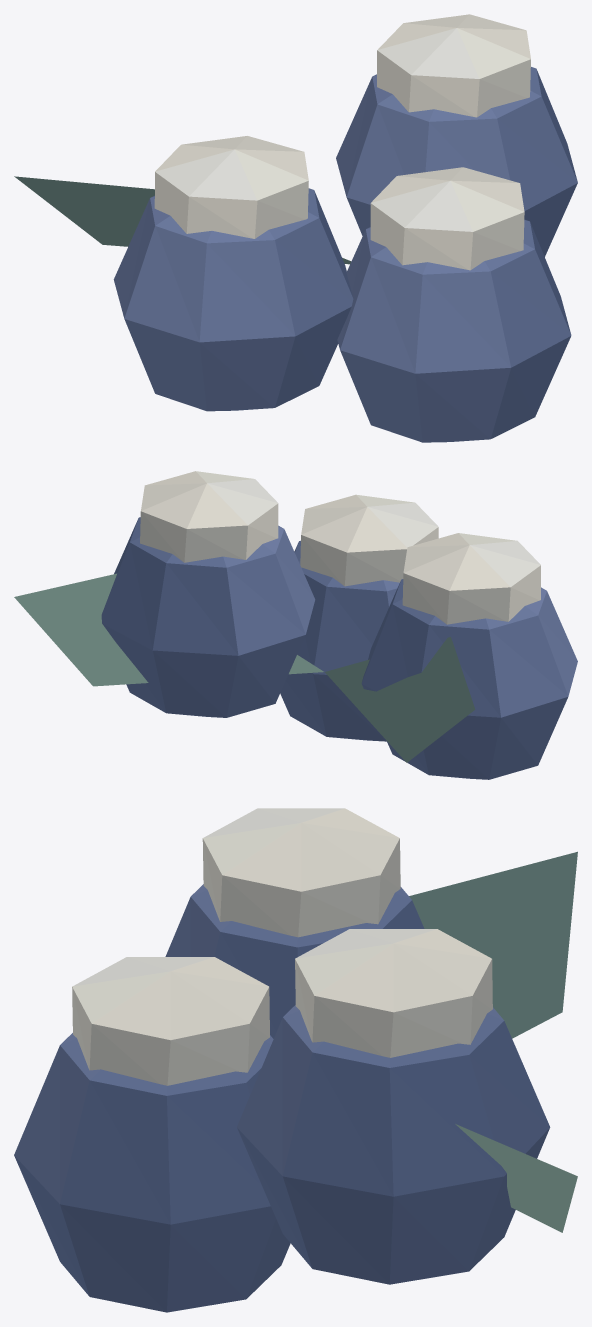
The model's file is season_find_winter.glb.
The picture shows the model from 3 angles, top to bottom: view 1: azimuth 30°, elevation 25°; view 2: azimuth 150°, elevation 25°; view 3: azimuth 270°, elevation 25°; orthographic projection. The views are drawn at different scales.
Parts seen in each view (by area): view 1: Saisonfund · winter; view 2: Saisonfund · winter; view 3: Saisonfund · winter.
Boxes of the visible parts, x1=… form: Saisonfund · winter: x1=14, y1=14, x2=577, y2=442; Saisonfund · winter: x1=14, y1=471, x2=577, y2=779; Saisonfund · winter: x1=14, y1=808, x2=577, y2=1312.
Bounding box in the file's own units: 0.5 × 0.304 × 0.367.
